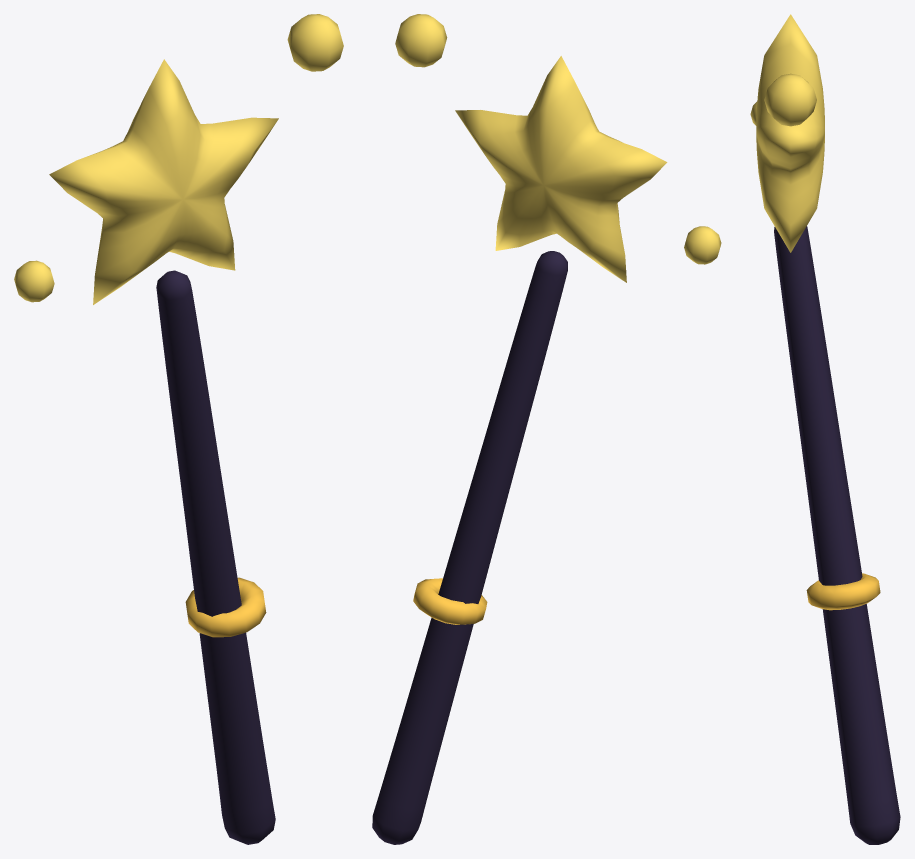
Rendered from prop-wand.glb.
3 views of the same model, side by side, from view 1: azimuth 30°, elevation 25°; view 2: azimuth 150°, elevation 25°; view 3: azimuth 270°, elevation 25° (orthographic). The views are drawn at different scales.
Visible parts, largest first — view 1: prop-wand-mesh; view 2: prop-wand-mesh; view 3: prop-wand-mesh.
Boxes of the visible parts, x1,y1,x2,y2 form: prop-wand-mesh: (14, 14, 343, 844); prop-wand-mesh: (372, 14, 721, 844); prop-wand-mesh: (750, 14, 900, 844).
Size of the model in its own units: 0.333 by 0.8082 by 0.1418.
